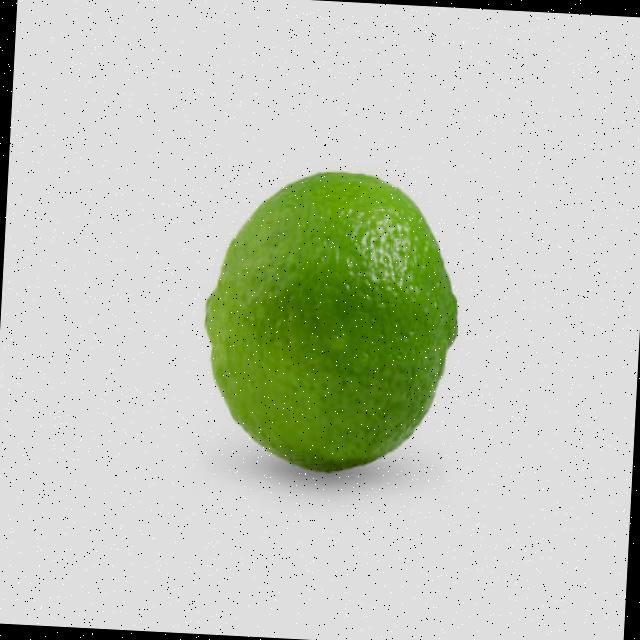Lemon: (193, 160, 468, 478)
